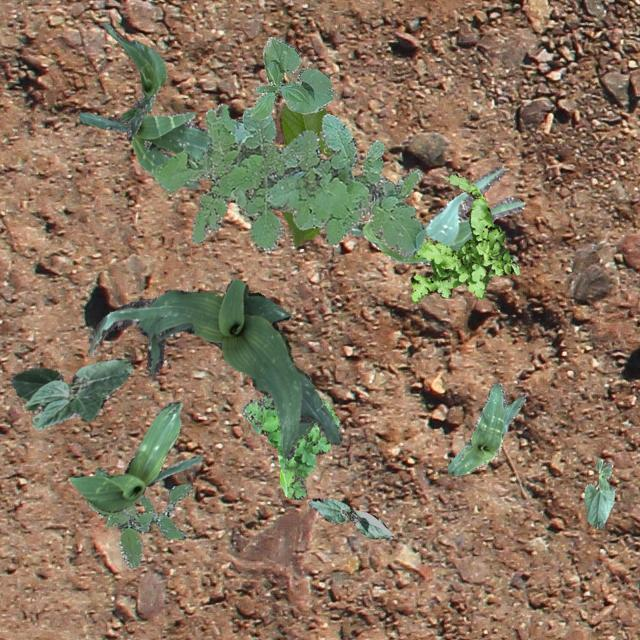crop: (88, 277, 342, 458), (348, 165, 524, 264), (68, 402, 204, 511), (78, 110, 210, 188), (10, 358, 132, 430), (278, 102, 332, 246), (101, 22, 166, 140), (446, 380, 524, 476), (250, 36, 334, 119), (308, 496, 392, 538), (584, 458, 614, 528)
weed: (152, 102, 426, 255), (409, 170, 518, 302), (240, 394, 340, 498), (88, 466, 142, 566), (133, 482, 191, 538)
